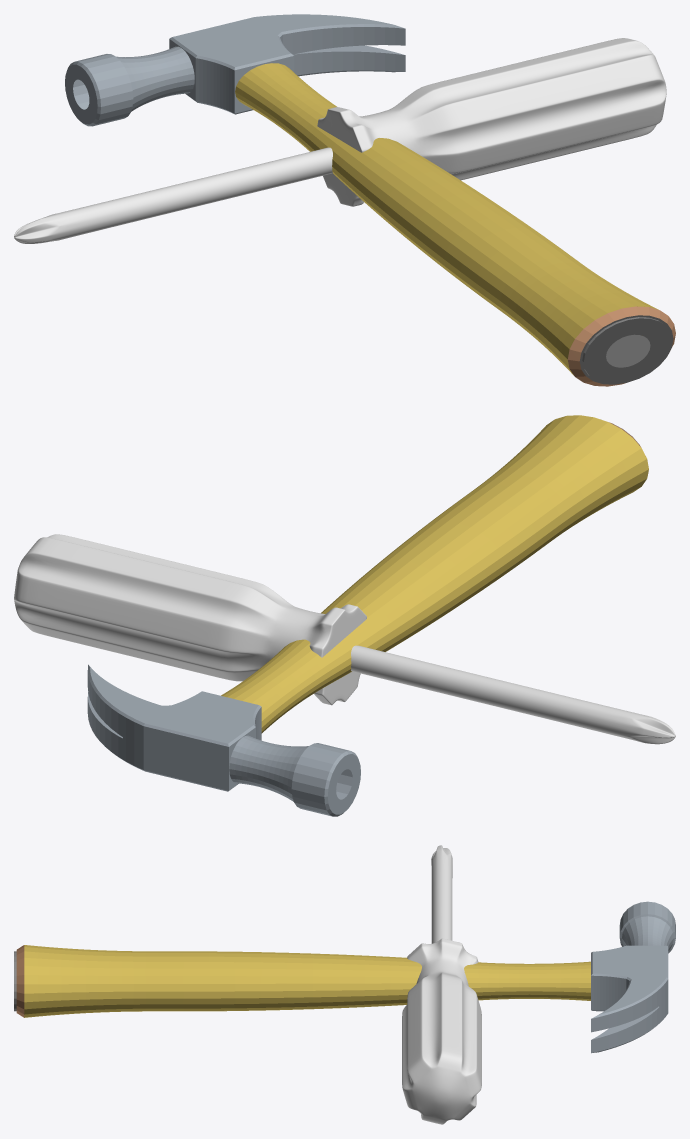
File: screwdriver_hammer.dae
3 views of the same model, one above another, from view 1: azimuth 30°, elevation 25°; view 2: azimuth 150°, elevation 25°; view 3: azimuth 270°, elevation 25° (orthographic). The views are drawn at different scales.
Visible parts, largest first — view 1: skpC7C7_008, 10304_Phillips_Head_ Screwdriver_v1_iterations-2; view 2: skpC7C7_008, 10304_Phillips_Head_ Screwdriver_v1_iterations-2; view 3: skpC7C7_008, 10304_Phillips_Head_ Screwdriver_v1_iterations-2.
Part boxes in pixels (x1=…): skpC7C7_008: x1=65, y1=14, x2=675, y2=386; 10304_Phillips_Head_ Screwdriver_v1_iterations-2: x1=14, y1=38, x2=666, y2=243; skpC7C7_008: x1=87, y1=415, x2=648, y2=816; 10304_Phillips_Head_ Screwdriver_v1_iterations-2: x1=14, y1=534, x2=675, y2=744; skpC7C7_008: x1=14, y1=901, x2=675, y2=1053; 10304_Phillips_Head_ Screwdriver_v1_iterations-2: x1=402, y1=845, x2=481, y2=1124.
Bounding box in the file's own units: 0.2977 × 0.3348 × 0.0404.
